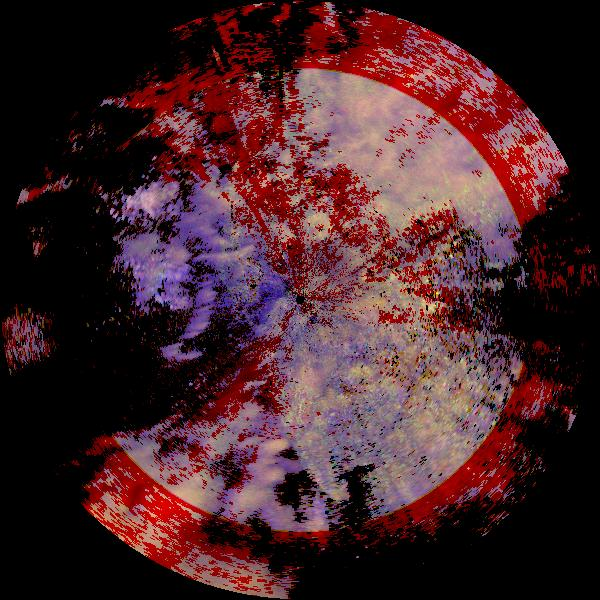roost: (307, 322, 349, 364)
